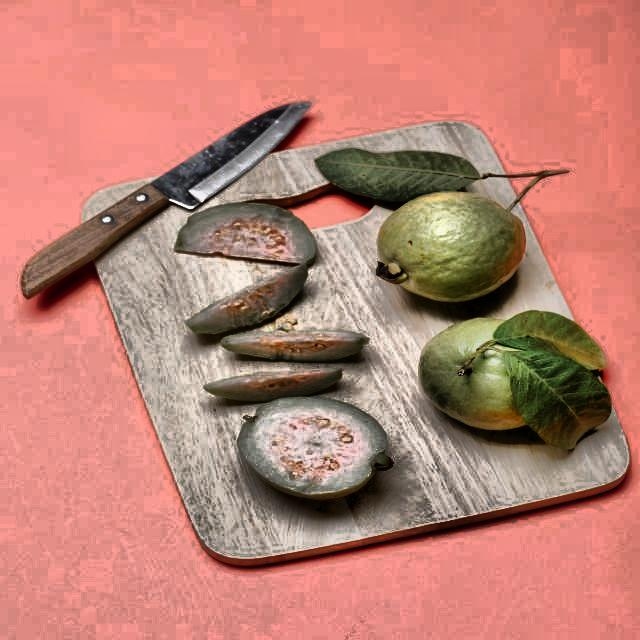knife: (11, 97, 316, 308)
